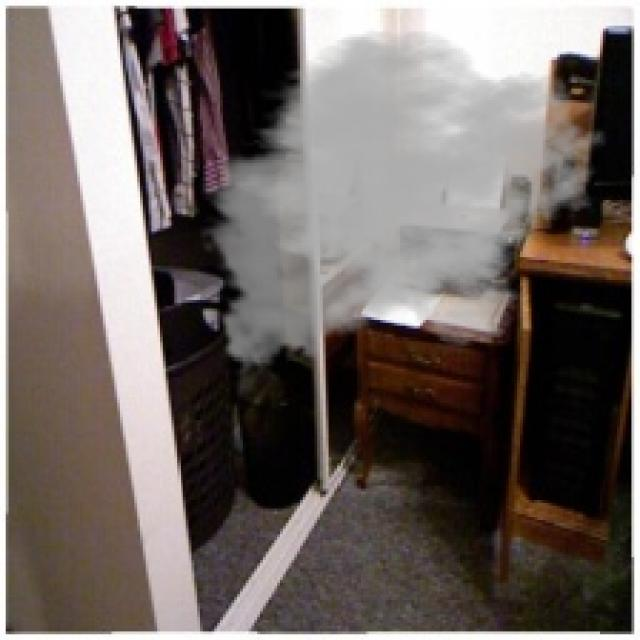smoke: (197, 28, 609, 383)
